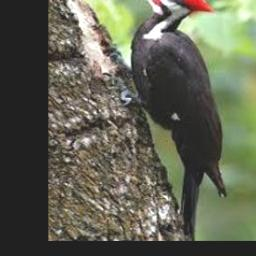Woodpecker: (110, 0, 226, 240)
